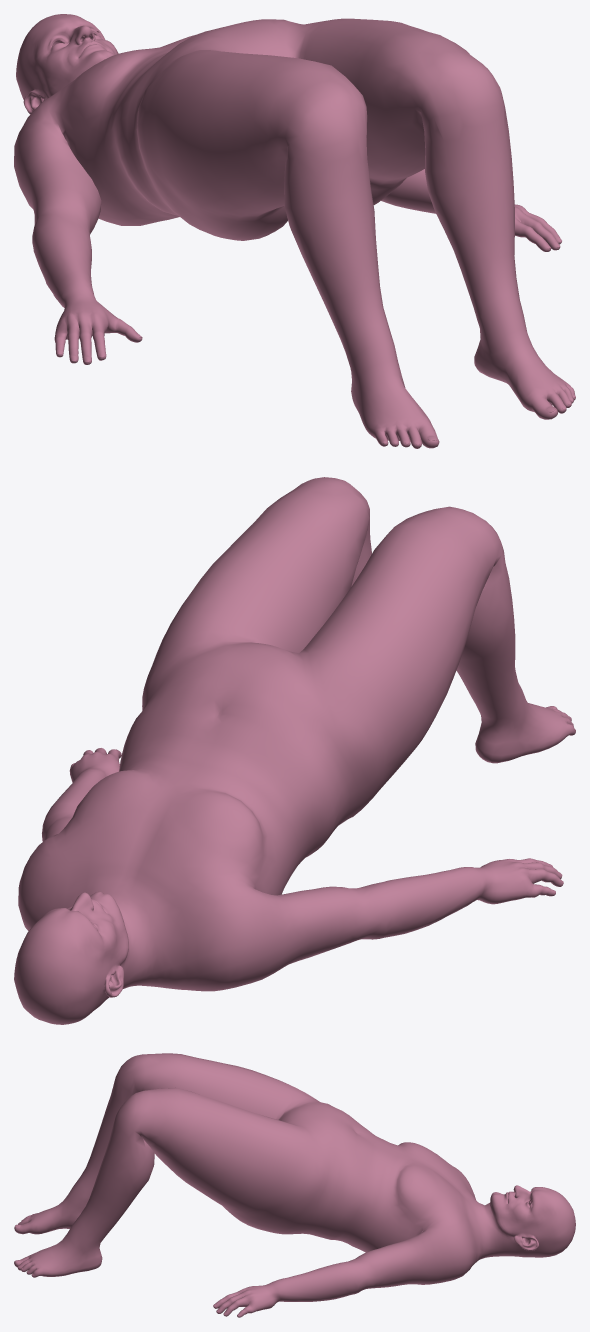
File: pos7.glb
3 views of the same model, one above another, from view 1: azimuth 30°, elevation 25°; view 2: azimuth 150°, elevation 25°; view 3: azimuth 270°, elevation 25° (orthographic). The views are drawn at different scales.
Visible parts, largest first — view 1: f_mana; view 2: f_mana; view 3: f_mana.
Part boxes in pixels (x1=…): f_mana: x1=14, y1=14, x2=575, y2=448; f_mana: x1=14, y1=477, x2=575, y2=1024; f_mana: x1=14, y1=1053, x2=575, y2=1317.
Bounding box in the file's own units: 96.72 × 58.23 × 157.
